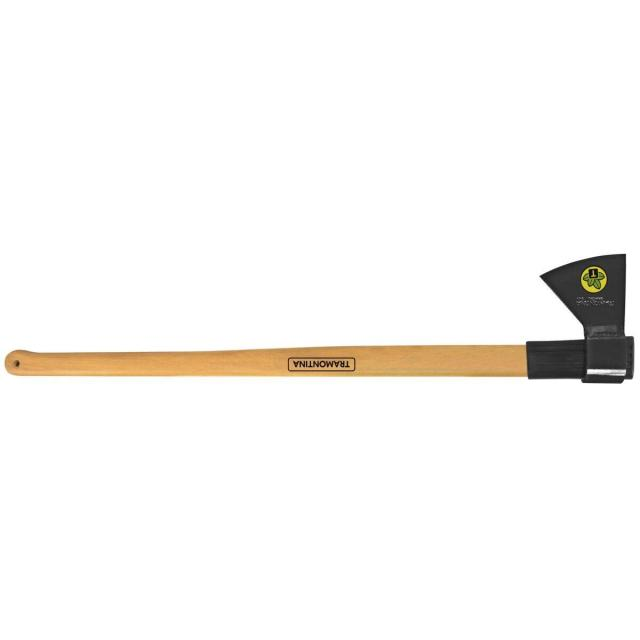Kapak: (35, 240, 640, 425)
